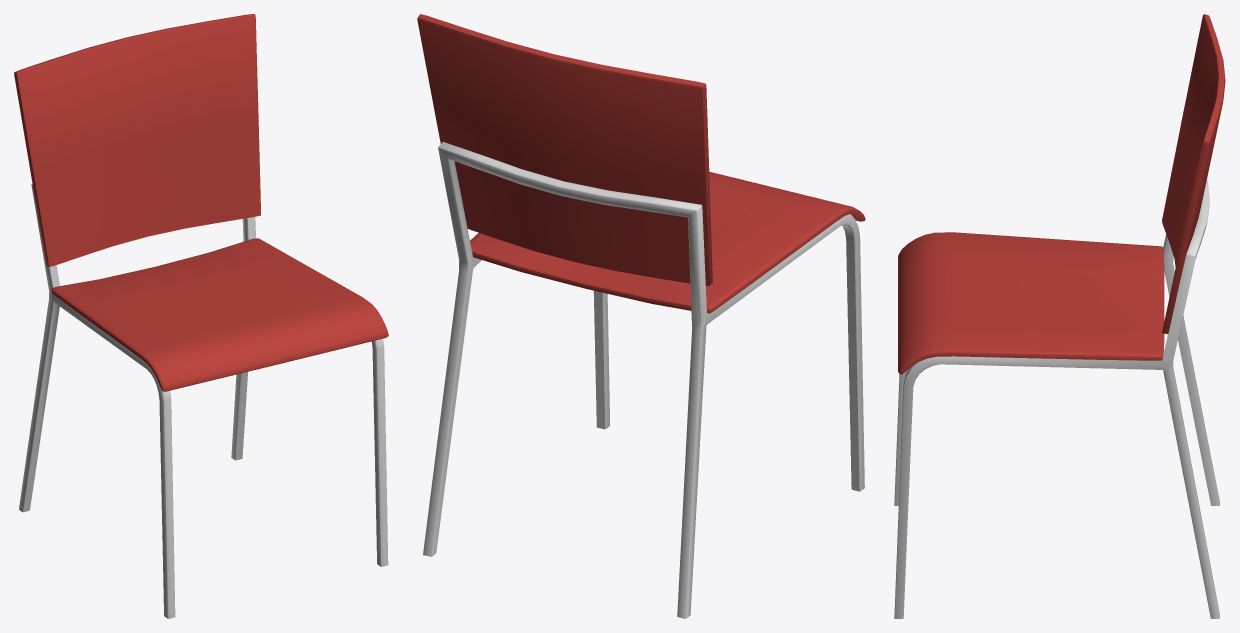
Rendered from SM_Fitment_chair_003.FBX.
The picture shows the model from 3 angles, left to right: view 1: azimuth 30°, elevation 25°; view 2: azimuth 150°, elevation 25°; view 3: azimuth 270°, elevation 25°; orthographic projection. The views are drawn at different scales.
Parts seen in each view (by area): view 1: SM_Fitment_chair_003; view 2: SM_Fitment_chair_003; view 3: SM_Fitment_chair_003.
Boxes of the visible parts, x1,y1,x2,y2 form: SM_Fitment_chair_003: (14, 14, 388, 618); SM_Fitment_chair_003: (417, 14, 865, 618); SM_Fitment_chair_003: (894, 14, 1225, 618).
Bounding box in the file's own units: 45.46 × 50.03 × 80.66.
